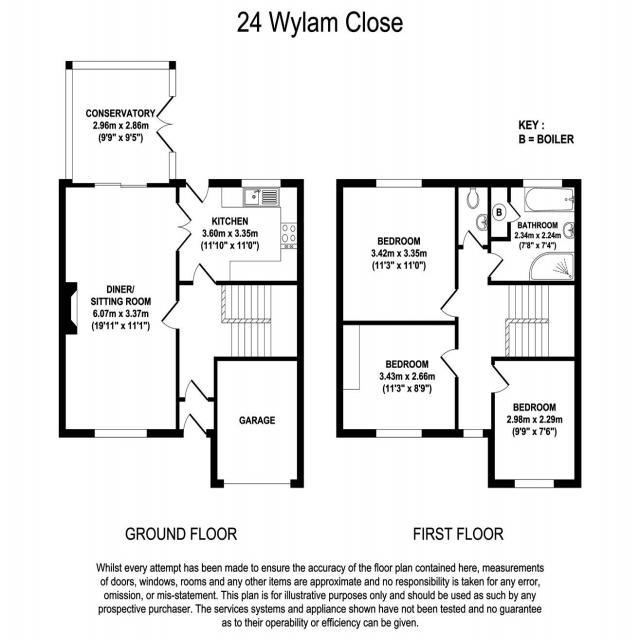DOOR: (175, 201, 193, 252), (184, 179, 210, 205), (182, 412, 208, 438), (192, 261, 217, 286), (439, 348, 459, 379), (491, 364, 511, 394), (439, 288, 459, 318), (160, 300, 180, 330), (184, 378, 209, 402), (487, 252, 505, 278), (462, 228, 484, 249)
DOUBLE DOOR: (93, 182, 148, 188)
ROOM: (58, 179, 193, 438), (336, 179, 459, 326), (336, 320, 459, 438), (176, 179, 304, 285), (488, 356, 582, 488)
WINDOW: (93, 428, 148, 439), (375, 428, 423, 439), (375, 178, 423, 188), (241, 178, 282, 189), (522, 178, 563, 188), (514, 479, 554, 489), (462, 428, 483, 438)
